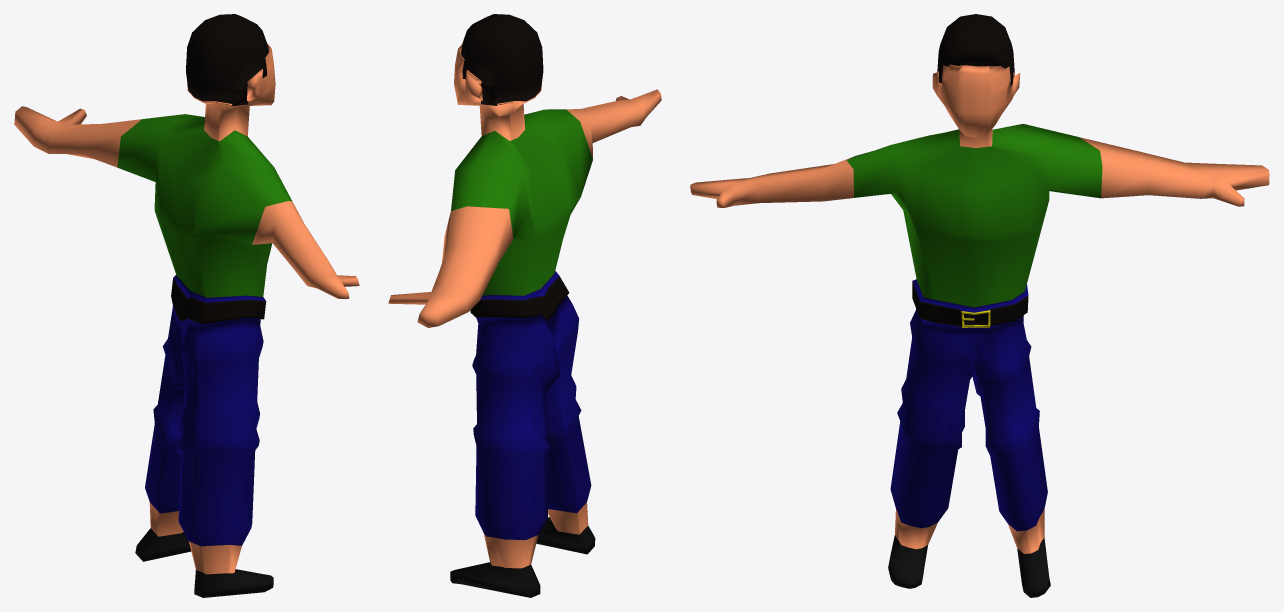
The model's file is low poly character.obj.
3 views of the same model, side by side, from view 1: azimuth 30°, elevation 25°; view 2: azimuth 150°, elevation 25°; view 3: azimuth 270°, elevation 25° (orthographic). The views are drawn at different scales.
Visible parts, largest first — view 1: Cube_Cube_Material.002, Cube_Cube_Material.001, Cube_Cube_Material, Cube_Cube_Material.004, Cube_Cube_Material.003; view 2: Cube_Cube_Material.002, Cube_Cube_Material.001, Cube_Cube_Material, Cube_Cube_Material.004, Cube_Cube_Material.003; view 3: Cube_Cube_Material.001, Cube_Cube_Material.002, Cube_Cube_Material, Cube_Cube_Material.004, Cube_Cube_Material.003.
Part boxes in pixels (box(x1,y1,x2,y2)): Cube_Cube_Material.002: box(145, 275, 265, 546); Cube_Cube_Material.001: box(117, 114, 291, 297); Cube_Cube_Material: box(14, 43, 359, 574); Cube_Cube_Material.004: box(171, 14, 268, 324); Cube_Cube_Material.003: box(135, 528, 273, 597); Cube_Cube_Material.002: box(472, 271, 591, 539); Cube_Cube_Material.001: box(451, 109, 592, 295); Cube_Cube_Material: box(388, 44, 661, 568); Cube_Cube_Material.004: box(461, 14, 569, 320); Cube_Cube_Material.003: box(450, 517, 595, 597); Cube_Cube_Material.001: box(847, 124, 1102, 307); Cube_Cube_Material.002: box(890, 279, 1047, 531); Cube_Cube_Material: box(690, 64, 1269, 553); Cube_Cube_Material.004: box(912, 14, 1028, 326); Cube_Cube_Material.003: box(888, 535, 1050, 597).
Bounding box in the file's own units: 2.37 × 10.17 × 9.42.
